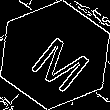M_NE: (19, 21, 91, 89)
